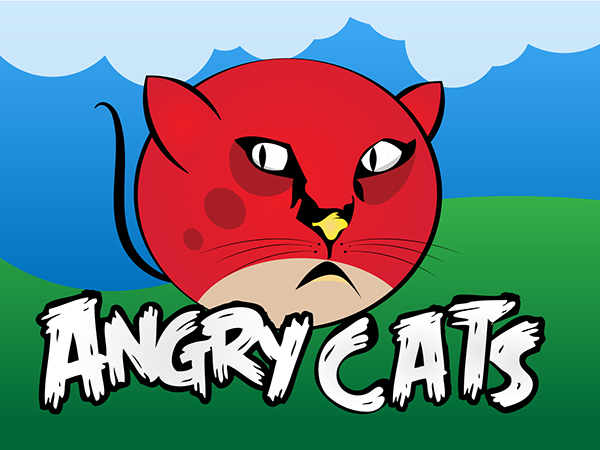cat: (94, 61, 463, 334)
